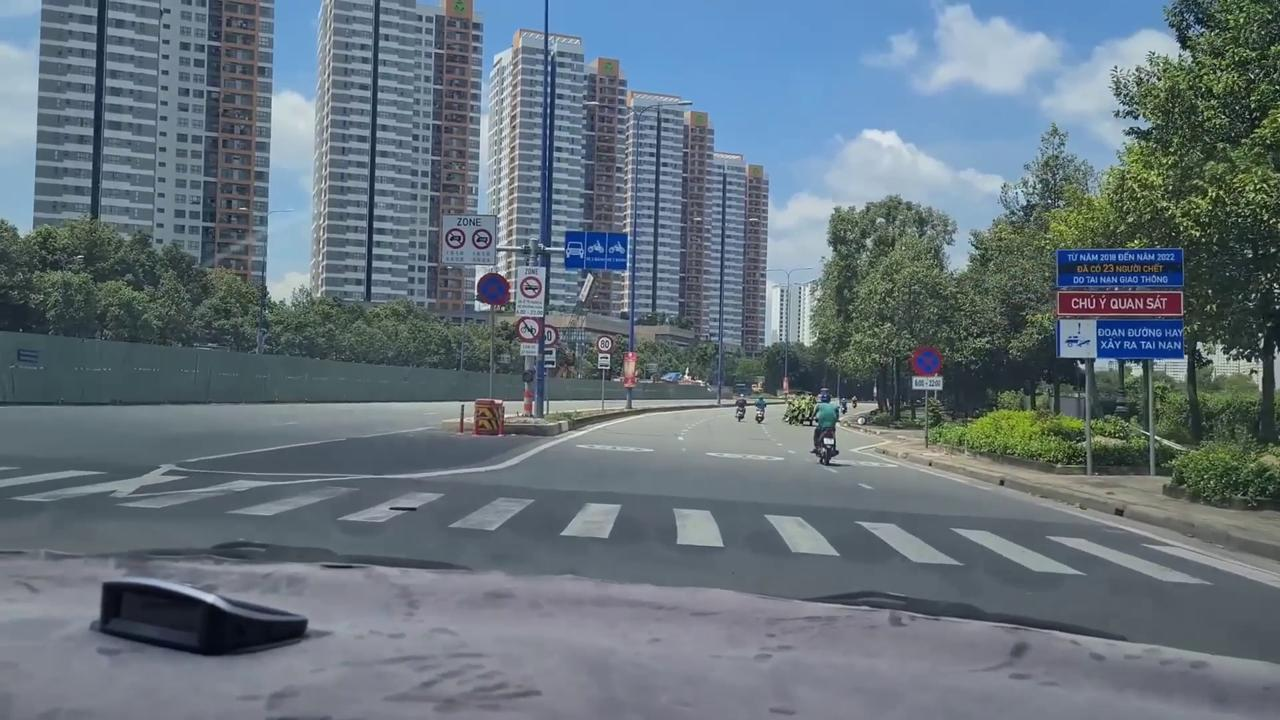Biển phụ: (912, 376, 942, 391), (540, 348, 558, 368), (597, 352, 611, 370)
Cấm cac phương tiện hoạt động trong khung giờ cố định: (440, 212, 498, 267), (514, 264, 544, 318)
Cấm dừng - Cấm đỗ: (476, 270, 511, 307), (908, 344, 944, 376)
Cấm xe máy: (516, 314, 542, 342)
Giới hạn tốc độ 80Km/h: (596, 333, 614, 353)
Khác: (1050, 243, 1186, 362)
Làn đường cho từng xe: (563, 229, 627, 270)
